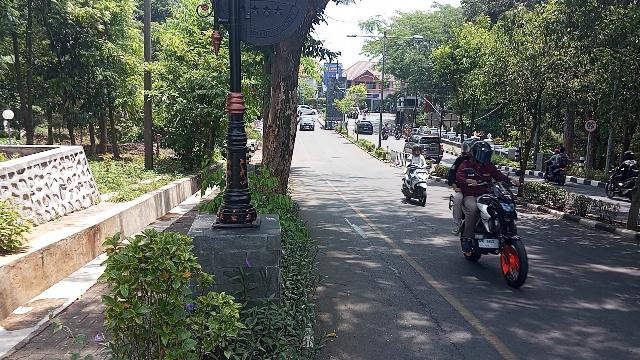helm: (473, 142, 494, 164), (461, 138, 481, 157), (624, 151, 636, 162), (413, 146, 424, 157), (555, 149, 561, 156)
motor: (449, 169, 531, 291), (401, 159, 437, 208), (606, 164, 640, 200), (545, 158, 568, 186)
non-helm: (561, 148, 567, 155)
